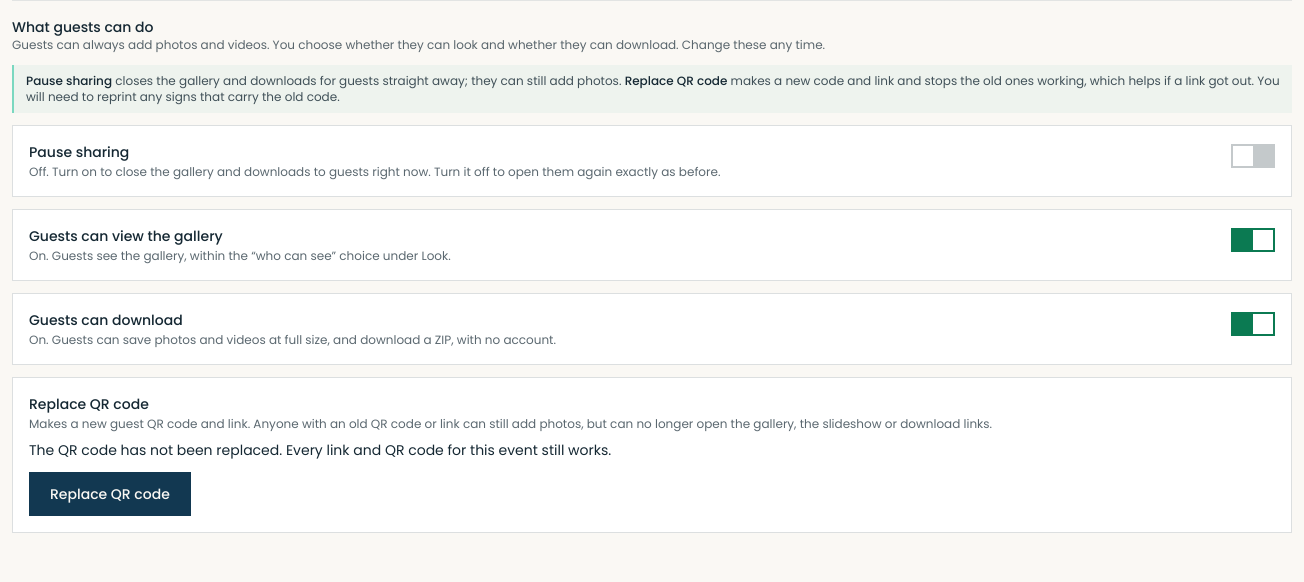
Scenario: GalleryAccessSettings › shows the failure and keeps the old setting when a save fails
The width and height of the screenshot is (1304, 582).
Click the switch labelled "Pause sharing" at coordinates (652, 161), box top-left (12, 125), bottom-right (1292, 197)
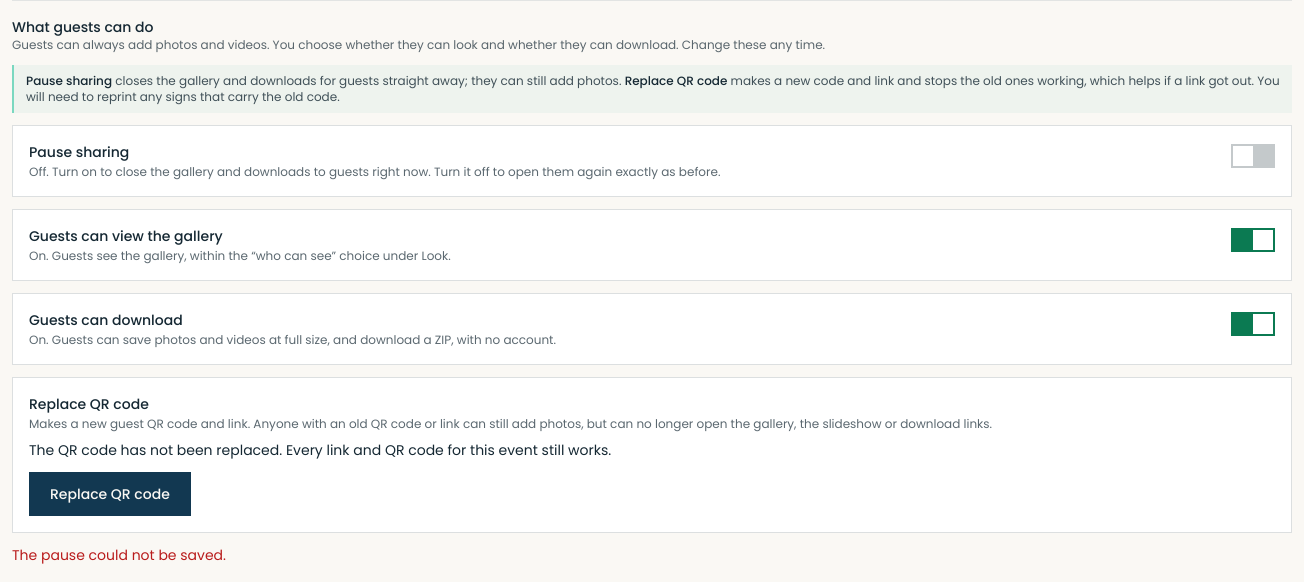
Check: the text "The pause could not be saved." is shown, box top-left (12, 545), bottom-right (226, 565)
